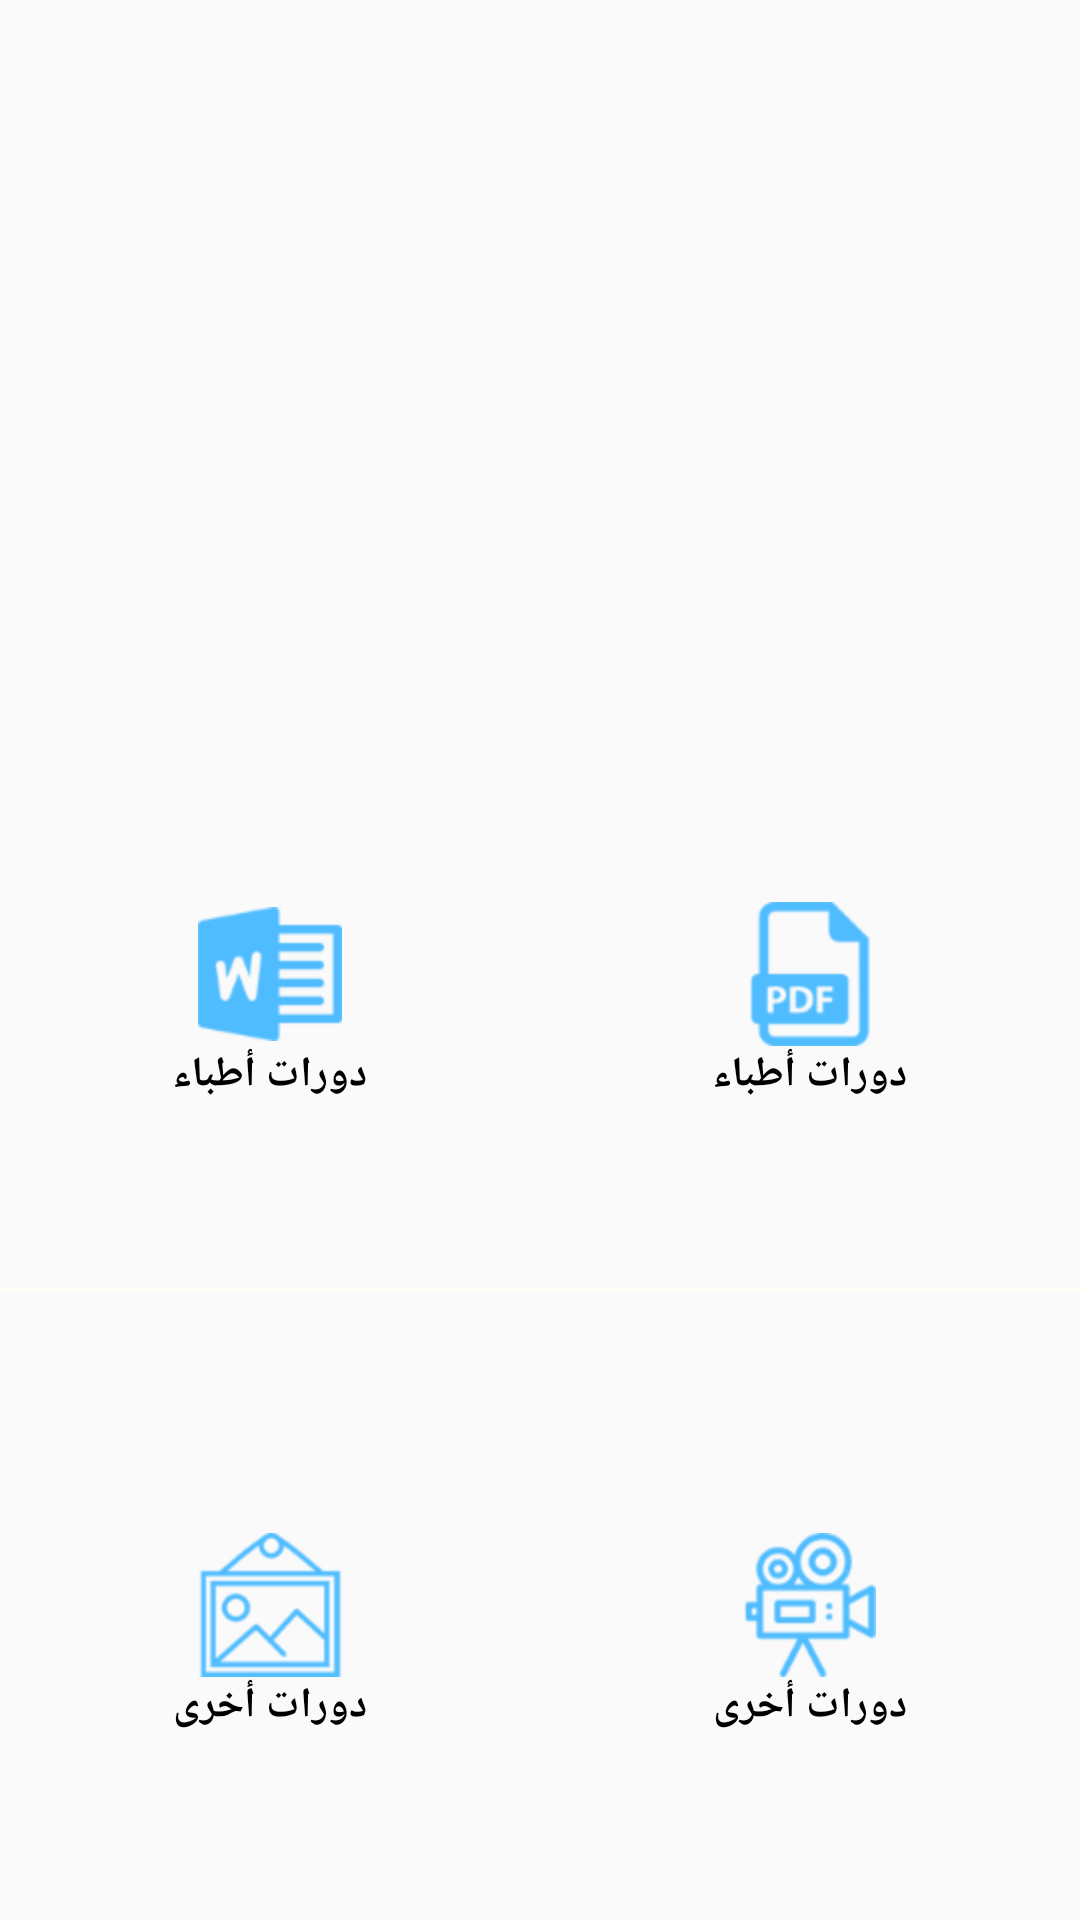

Named icons in this screenshot (1080px×1920px) and their centers, [x,y]:
pictur: [270,1605]
vido: [810,1605]
